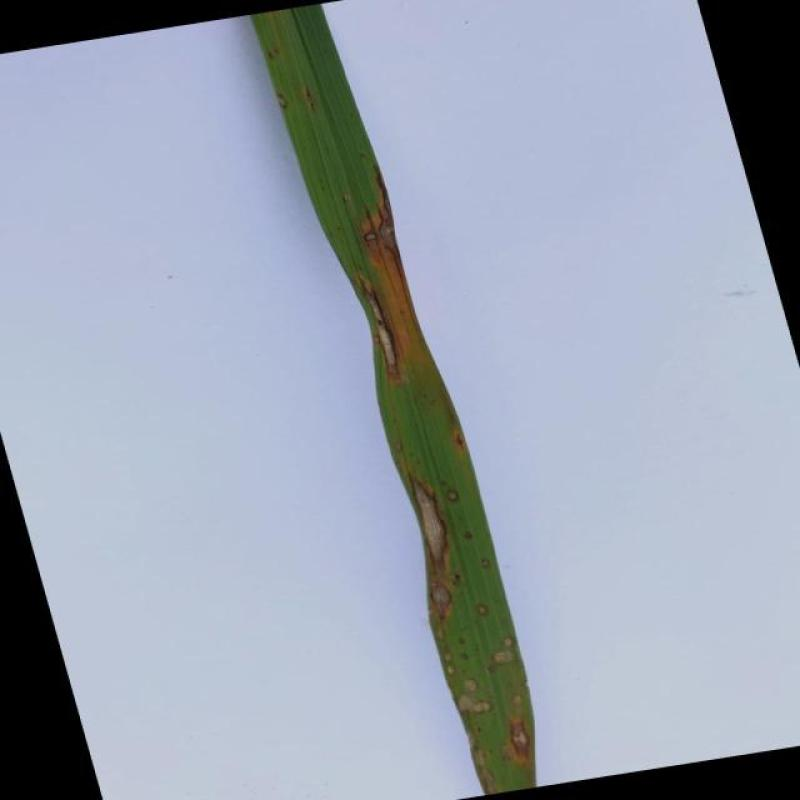Leaf_Blast: (405, 470, 449, 578), (362, 280, 403, 382), (375, 170, 404, 266), (426, 581, 458, 625), (506, 718, 534, 766), (456, 691, 496, 715), (489, 648, 516, 674), (478, 765, 503, 791), (362, 209, 378, 241), (453, 431, 469, 454), (432, 622, 446, 644), (474, 748, 491, 766), (464, 676, 481, 692), (275, 94, 291, 111), (444, 488, 461, 503), (512, 691, 526, 709), (475, 602, 489, 618), (500, 634, 518, 646), (442, 650, 457, 662), (468, 729, 477, 749), (444, 664, 456, 676), (461, 531, 474, 540), (480, 558, 491, 568), (460, 651, 471, 661), (459, 636, 465, 645)
